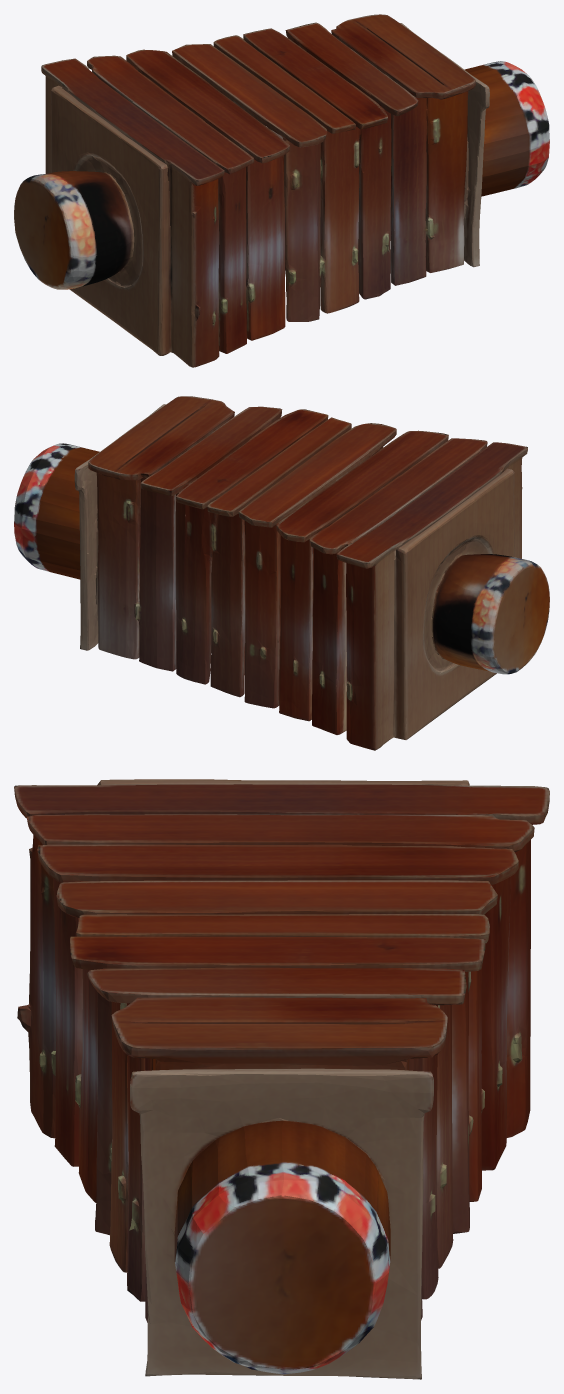
The model's file is lampung.glb.
3 views of the same model, one above another, from view 1: azimuth 30°, elevation 25°; view 2: azimuth 150°, elevation 25°; view 3: azimuth 270°, elevation 25° (orthographic). The views are drawn at different scales.
Parts seen in each view (by area): view 1: world; view 2: world; view 3: world.
Boxes of the visible parts, x1=… form: world: x1=14, y1=14, x2=549, y2=367; world: x1=14, y1=396, x2=549, y2=750; world: x1=14, y1=779, x2=549, y2=1379.
Bounding box in the file's own units: 0.7001 × 0.269 × 0.3998.
1 material, 1 textured.
